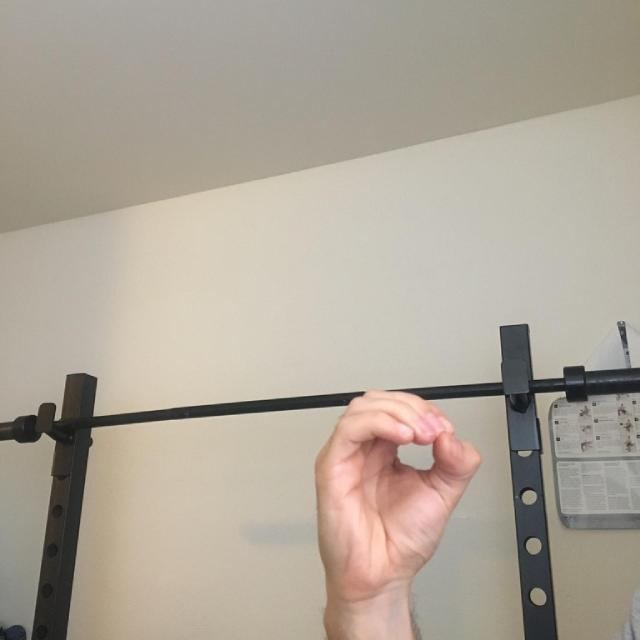O: (249, 325, 522, 640)
